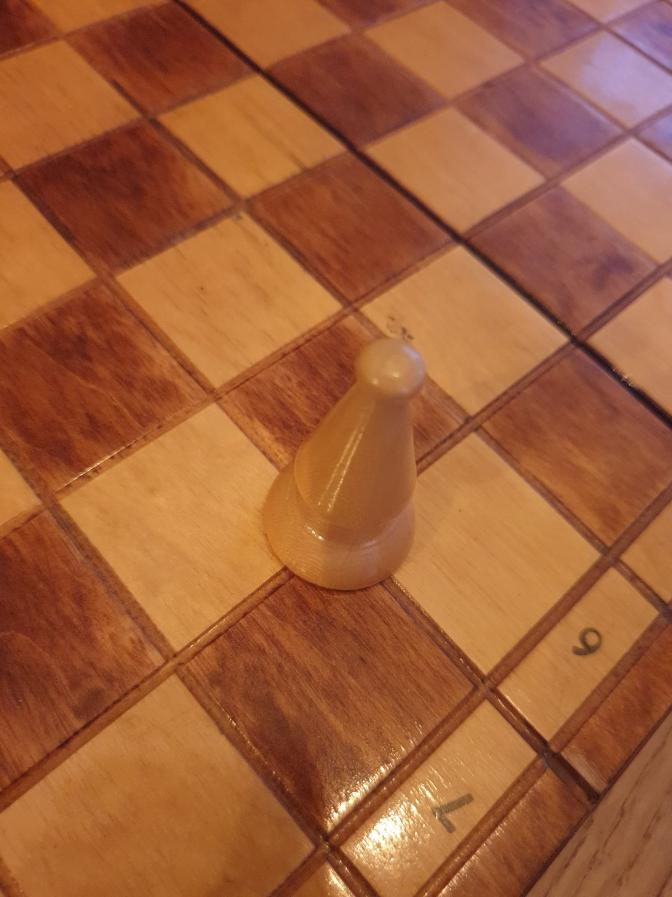wbishop: (265, 338, 423, 592)
